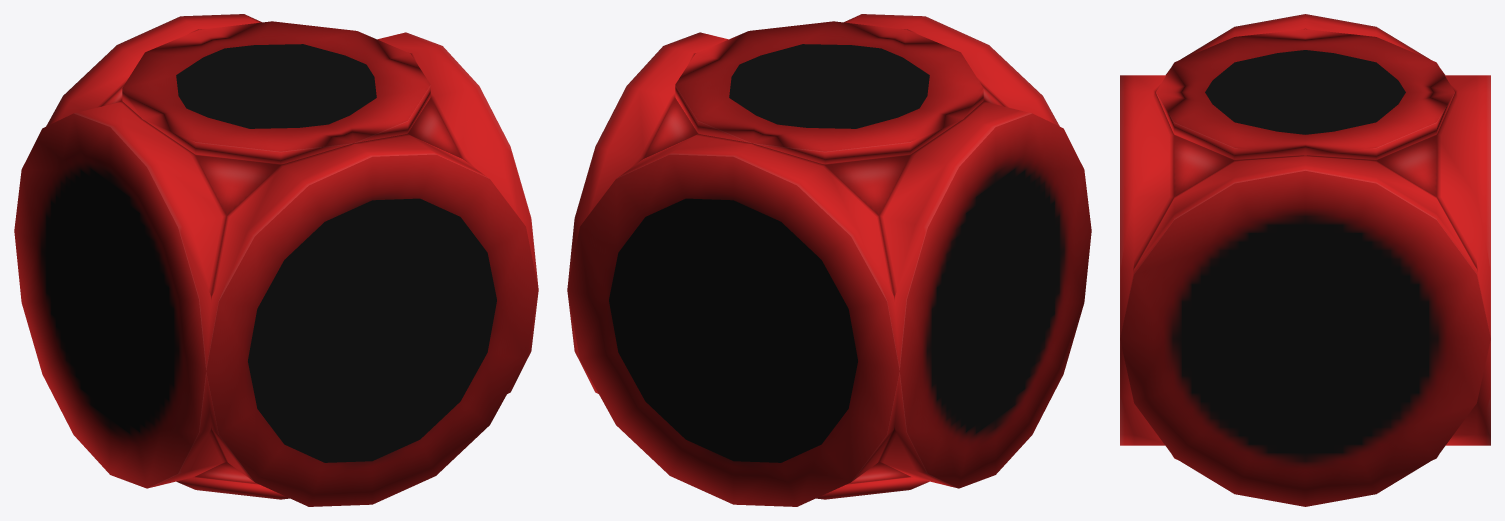
File: tiles_pipe_intersection.glb
The picture shows the model from 3 angles, left to right: view 1: azimuth 30°, elevation 25°; view 2: azimuth 150°, elevation 25°; view 3: azimuth 270°, elevation 25°; orthographic projection. The views are drawn at different scales.
Visible parts, largest first — view 1: PipeIntersection; view 2: PipeIntersection; view 3: PipeIntersection.
Boxes of the visible parts, x1,y1,x2,y2 form: PipeIntersection: [14, 14, 538, 506]; PipeIntersection: [567, 14, 1091, 506]; PipeIntersection: [1120, 14, 1490, 506].
Bounding box in the file's own units: 2 × 2 × 2.
Materials: 1 (1 with a texture image).
